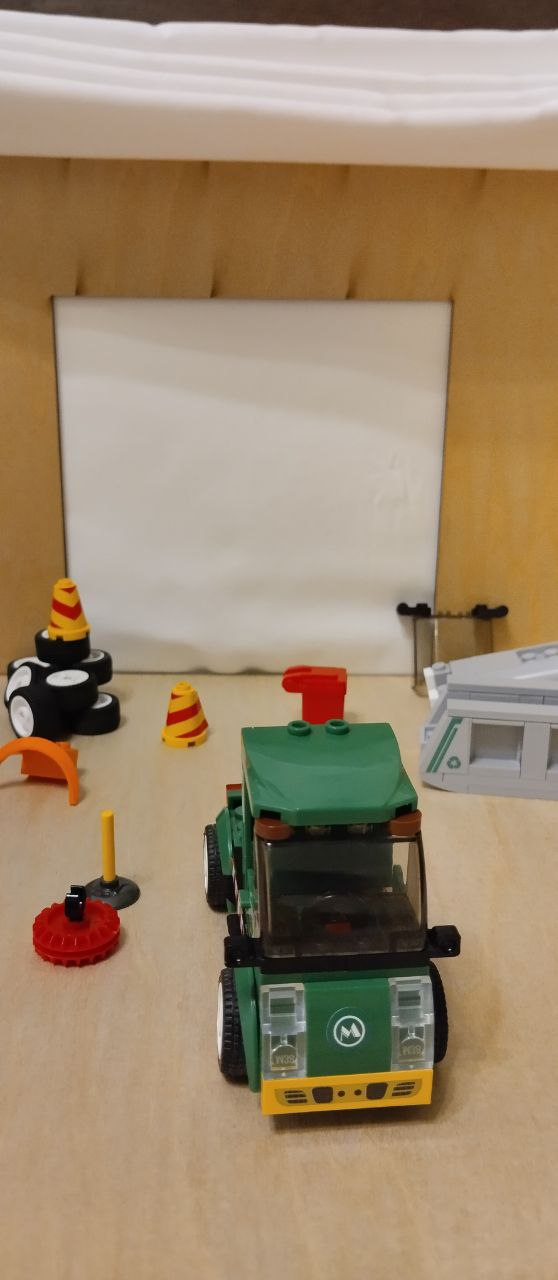Cone: (39, 578, 102, 648), (155, 685, 213, 752)
Object Red: (277, 660, 350, 725)
Truck: (198, 711, 468, 1140)
